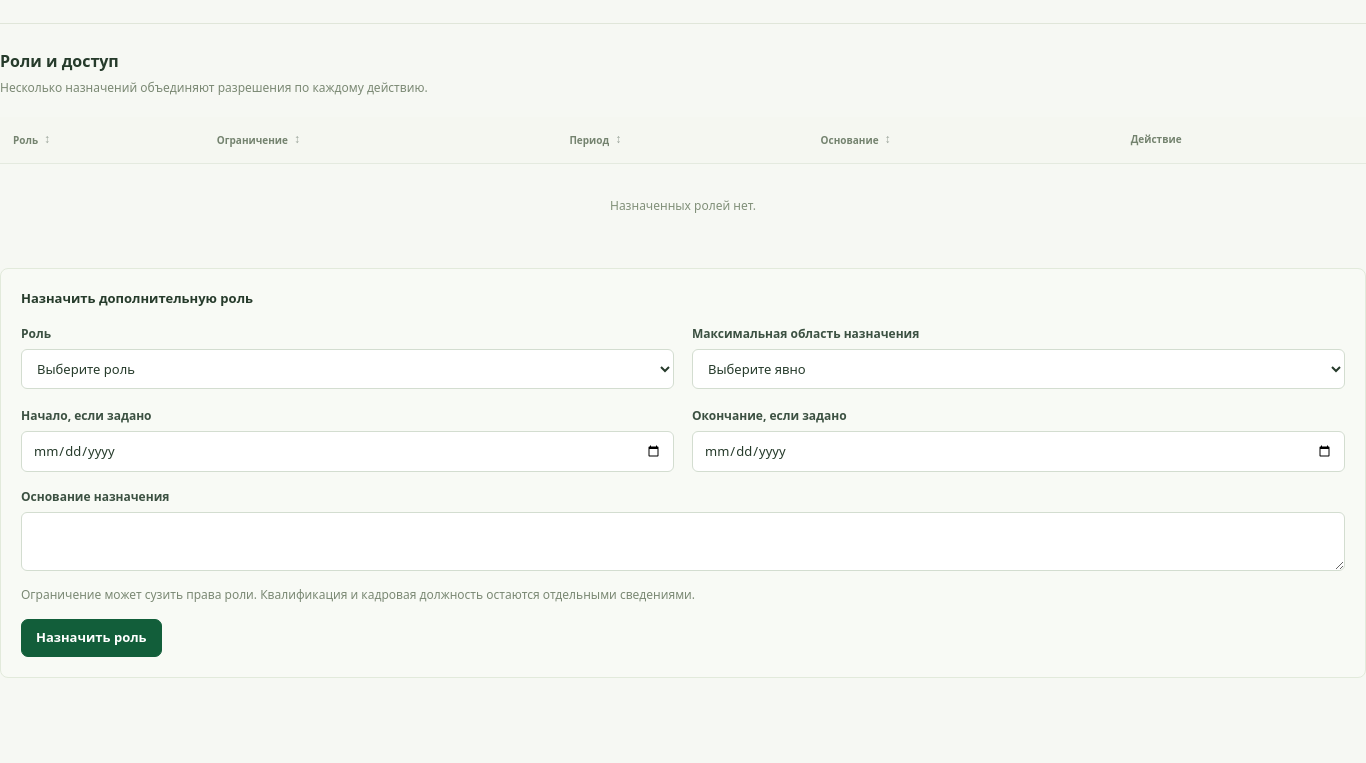
it: employee role assignments › refuses to send an empty department limit that could be mistaken for institution access
Expected: the form is shown, [0, 268, 1365, 678]
Select "Руководитель и эксперт" in the dropdown named "assignment_role" at (348, 369), box [21, 349, 674, 389]
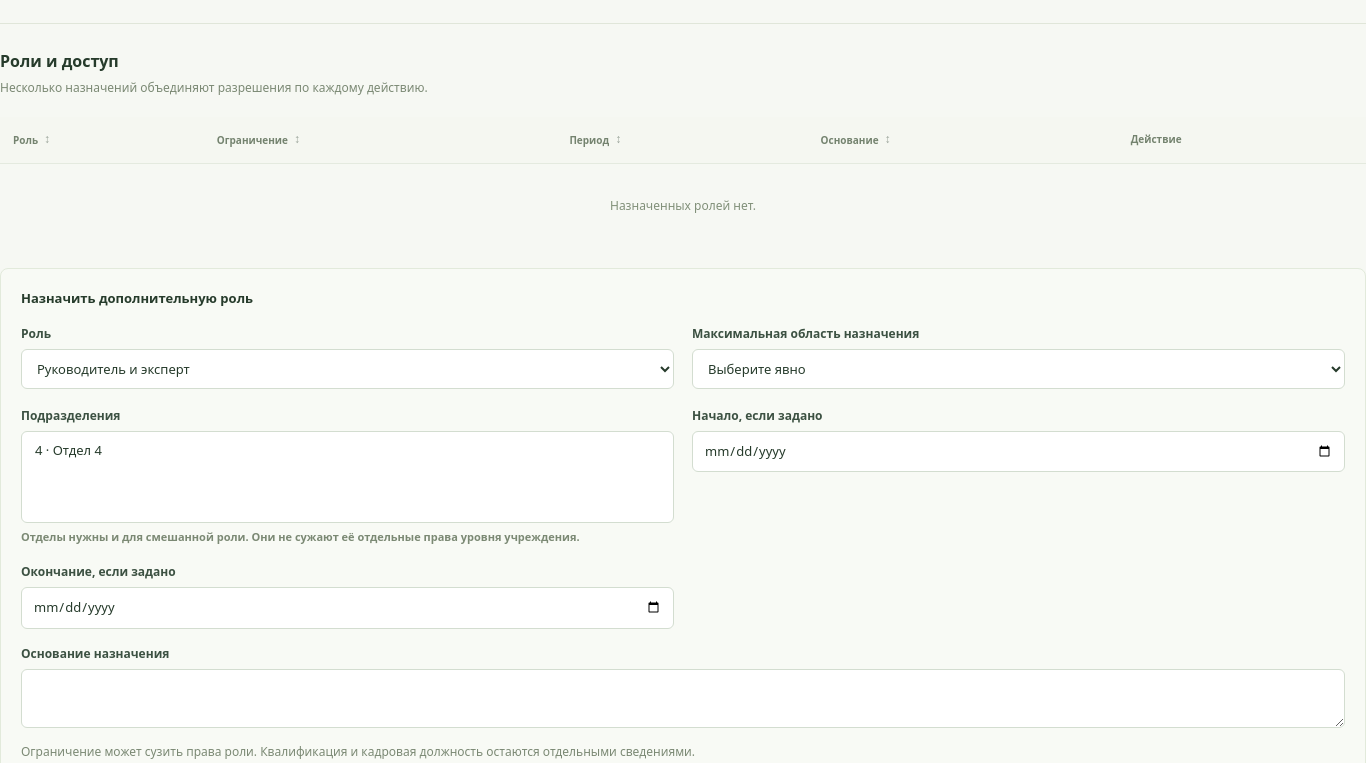
Select "Выбранные отделы" in the dropdown named "scope_limit" at (1018, 369), box [692, 349, 1345, 389]
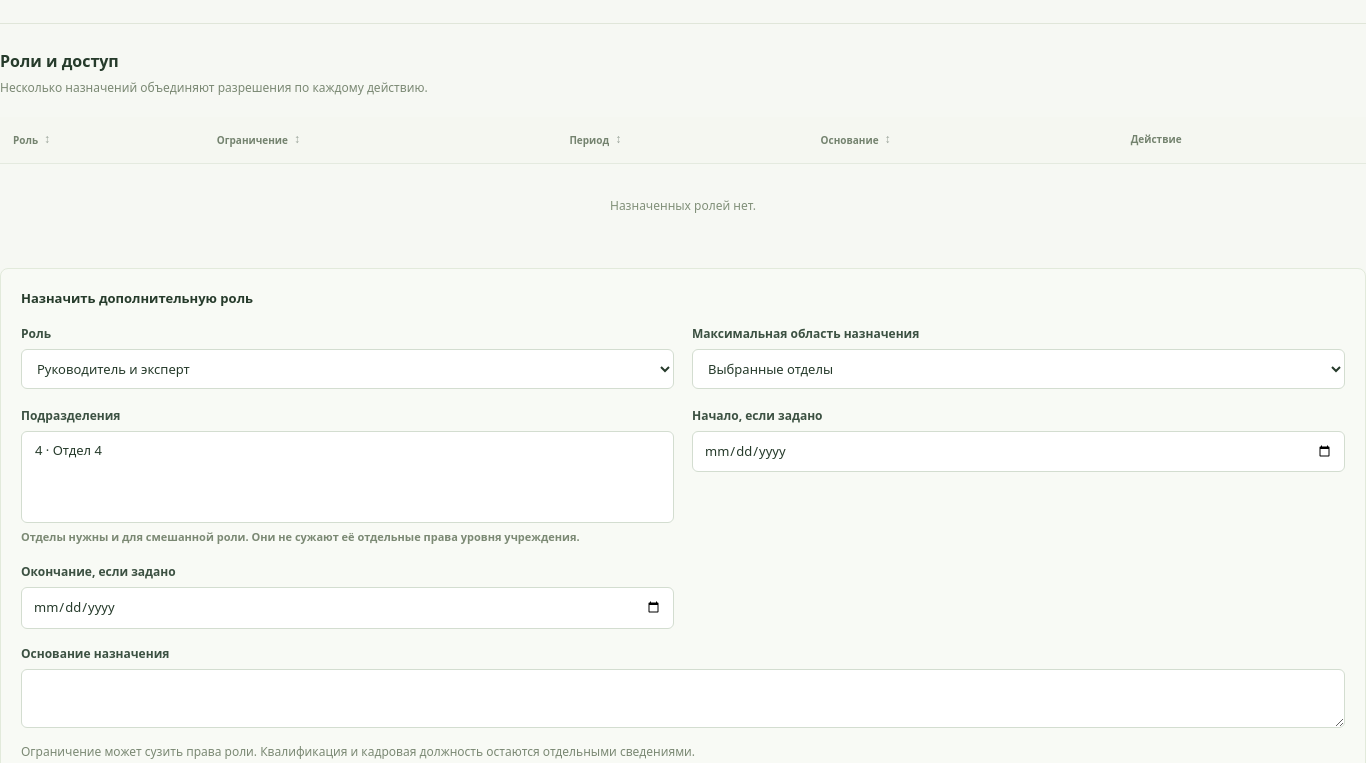
Type "Основание" into the text box named "assignment_reason" at (683, 698), box [21, 669, 1345, 728]
(page scrolled)
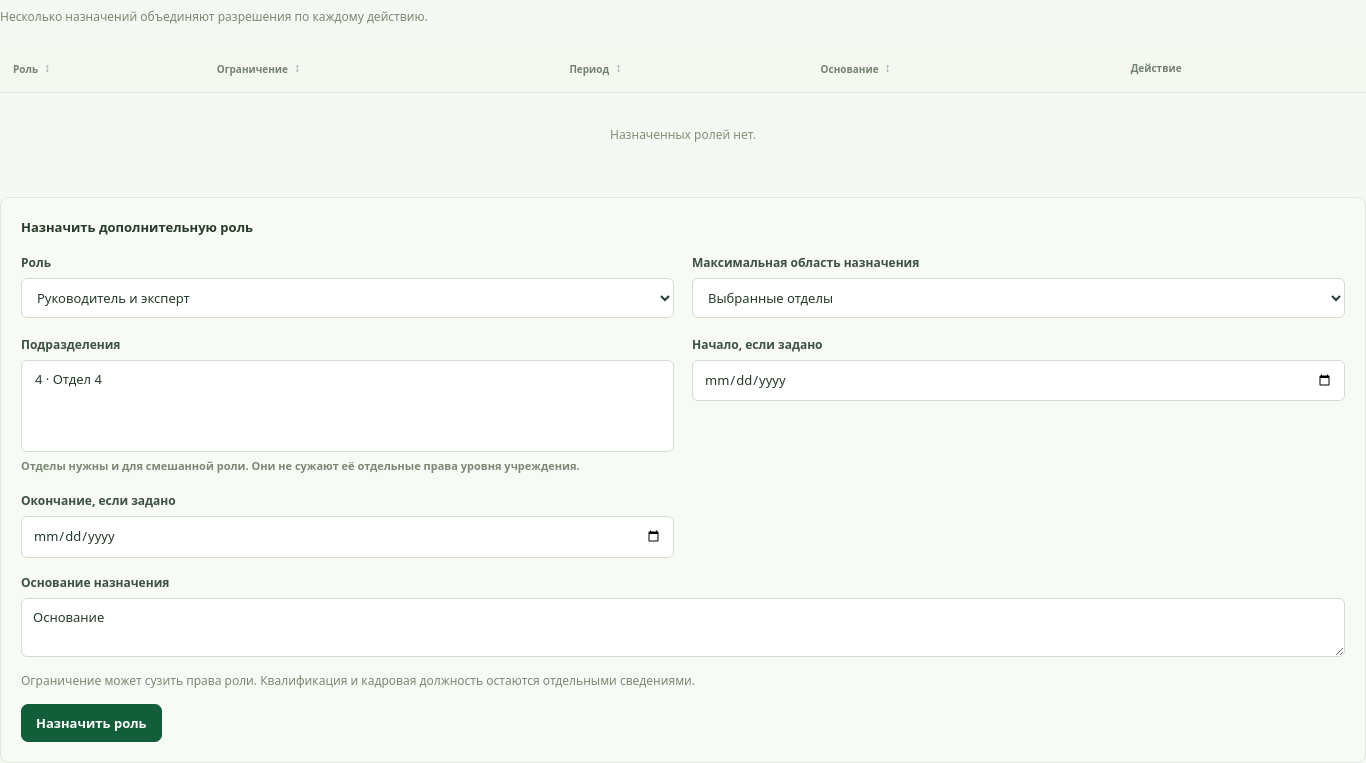
Submit the form
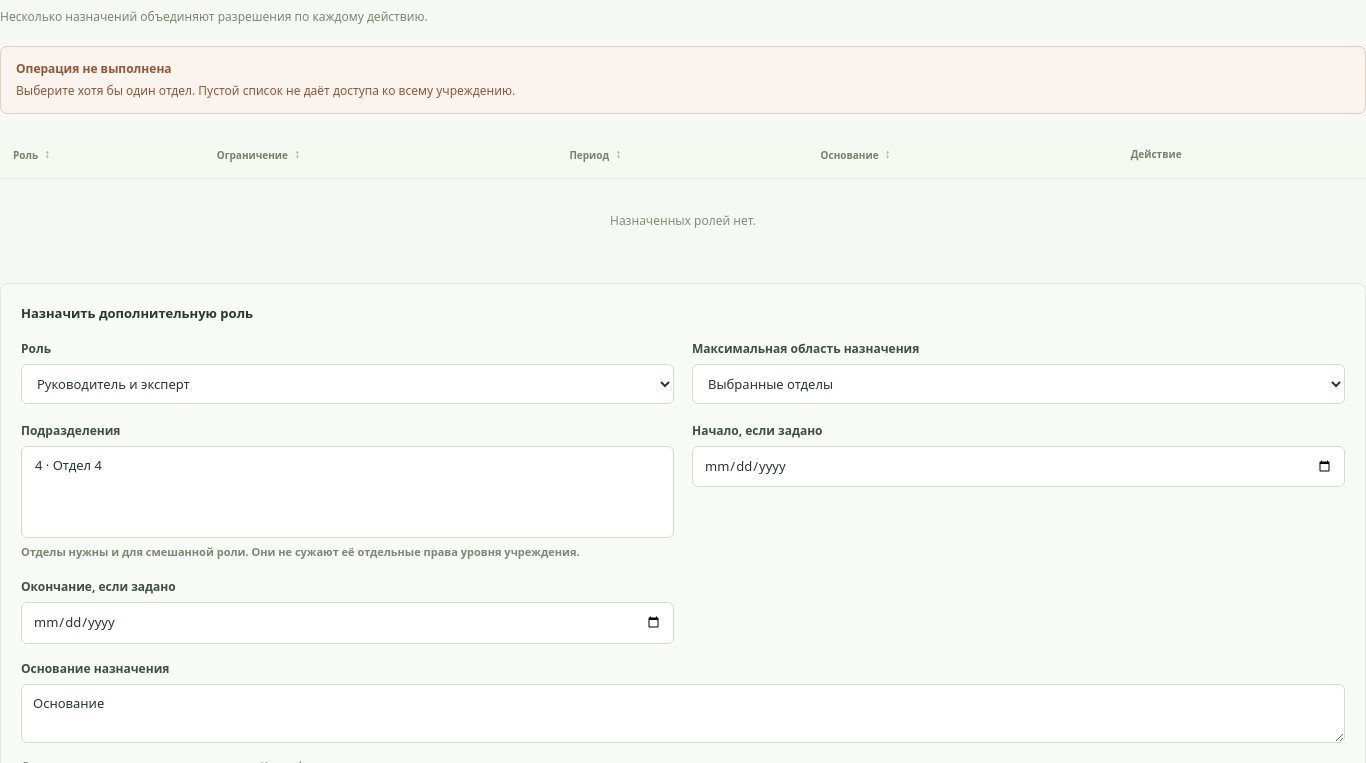
Result: the message shows "Выберите хотя бы один отдел" at [16, 82, 515, 99]
